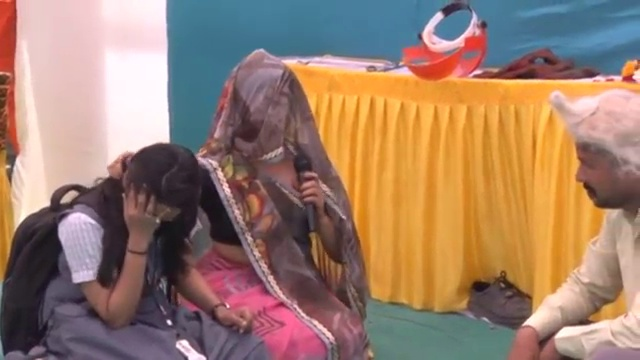helmet_off: (549, 83, 640, 227), (209, 45, 312, 158), (121, 146, 198, 216)
person: (1, 147, 271, 359), (184, 45, 365, 347), (511, 86, 640, 358)
